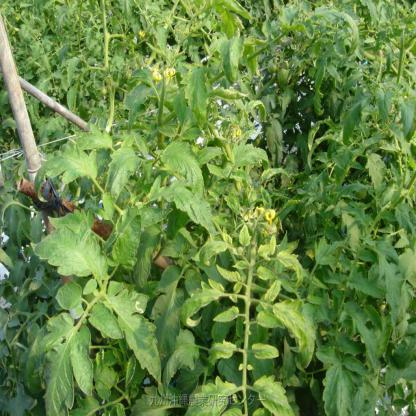Tomato leaf: (25, 304, 92, 416), (107, 285, 166, 388), (42, 218, 113, 284), (156, 184, 226, 240), (25, 142, 103, 184), (158, 142, 214, 194), (272, 302, 317, 360), (181, 64, 214, 136), (180, 276, 223, 328), (256, 368, 300, 416), (187, 378, 236, 416), (59, 124, 122, 152), (278, 244, 308, 290), (230, 140, 271, 170), (252, 306, 286, 338), (206, 337, 240, 367), (212, 302, 242, 330), (249, 343, 283, 362), (237, 223, 257, 250)
